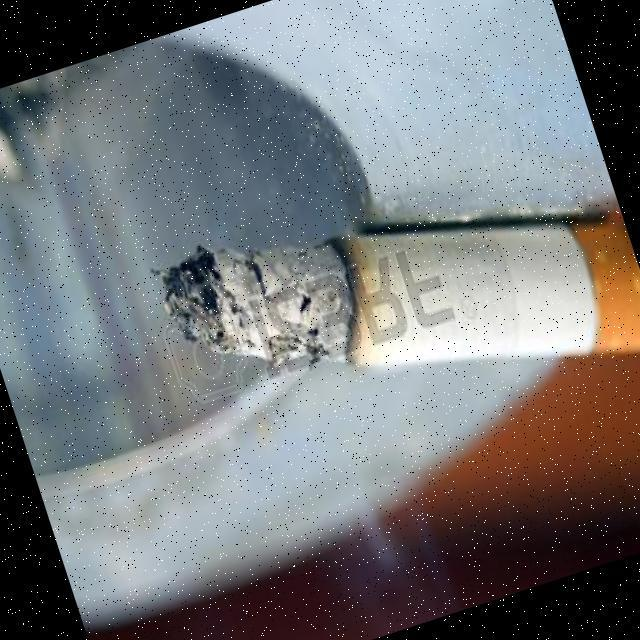cigarette: (143, 97, 640, 502)
